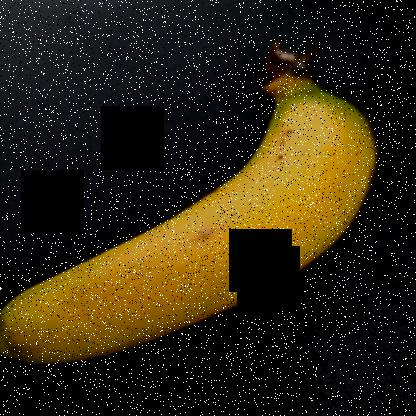freshripe: (1, 78, 375, 371)
